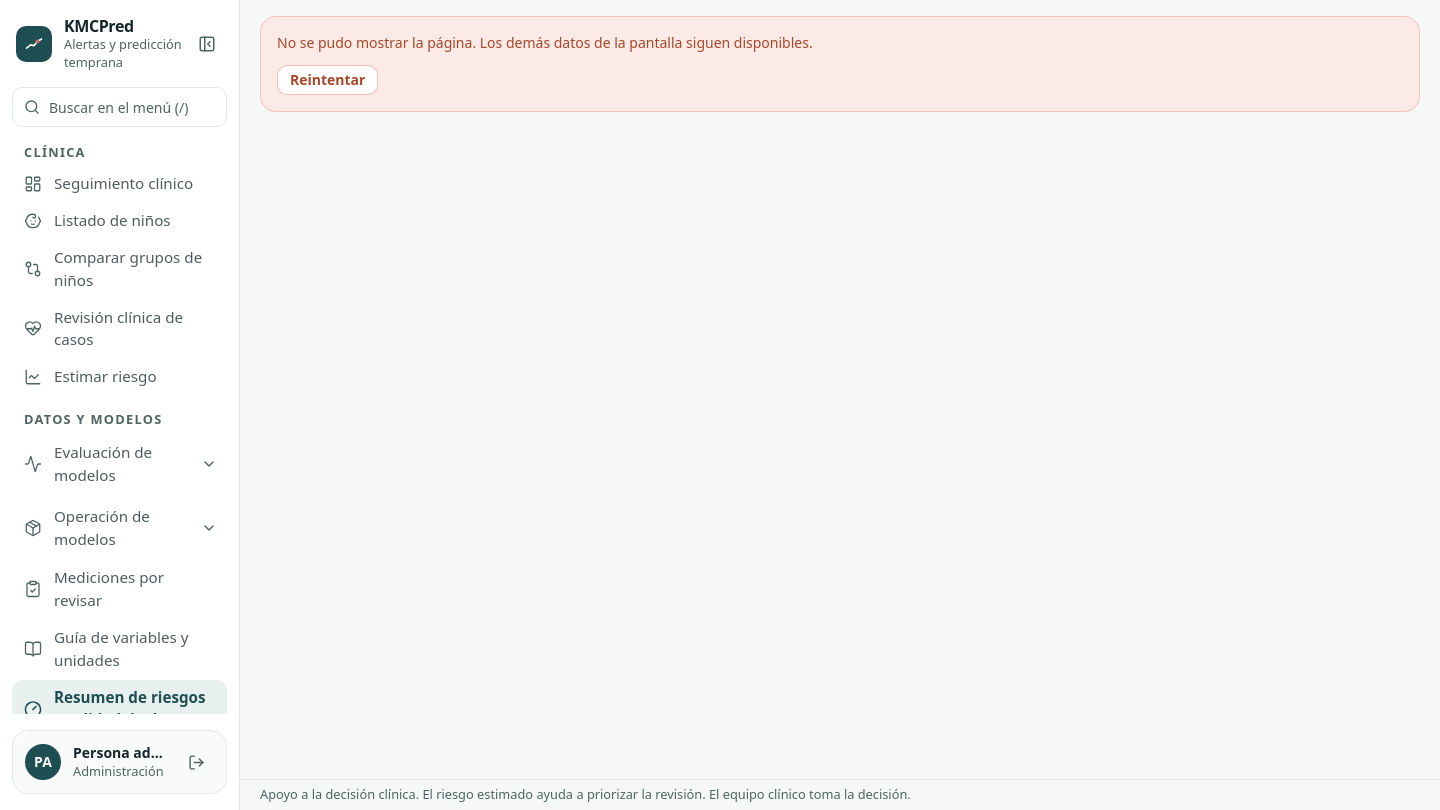
Buscar en el menú › si coincide el nombre del grupo, muestra todas sus opciones
The image size is (1440, 810).
In the search field with placeholder "Buscar en el menú (/)": (120, 107) x1=12 y1=87 x2=227 y2=127, type "configuracion"
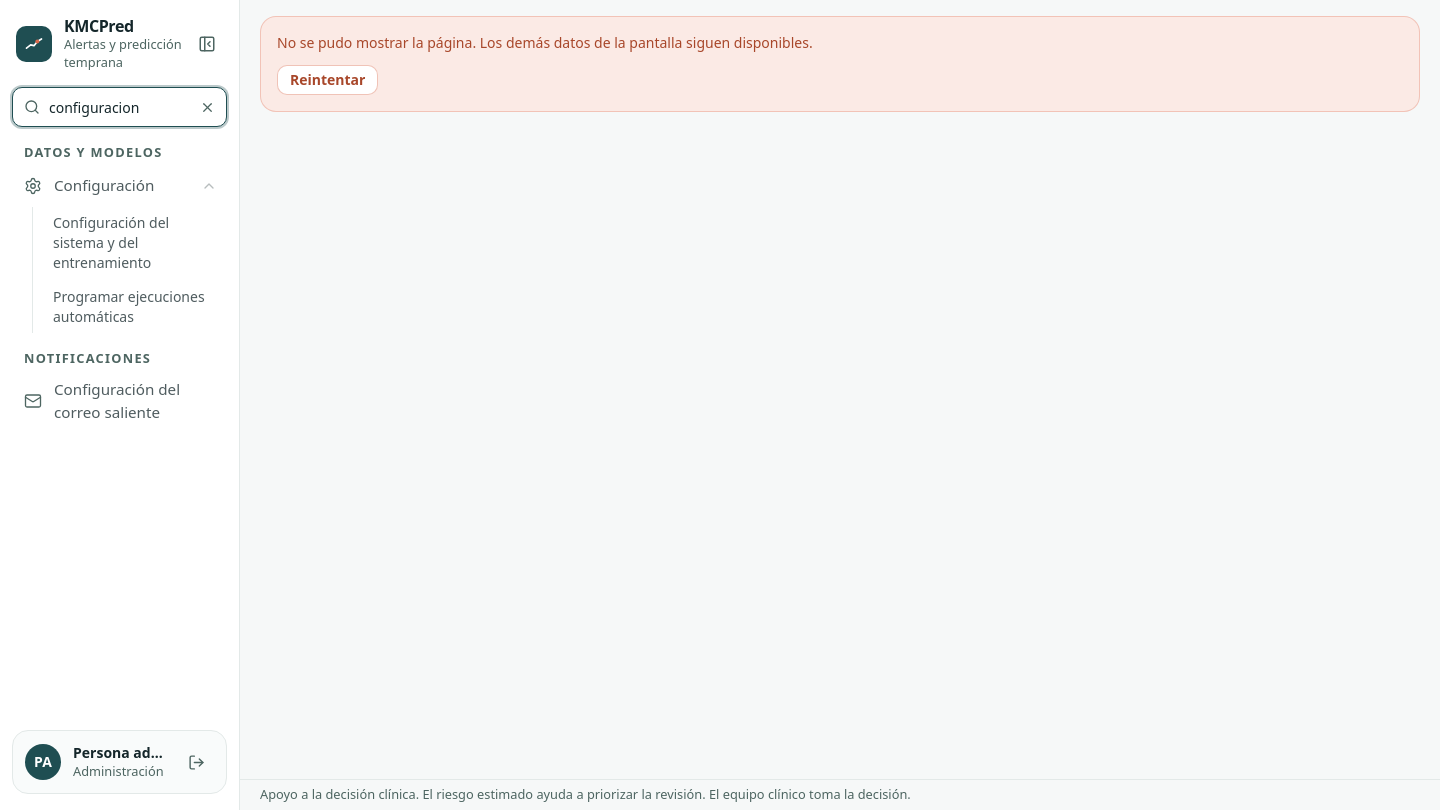
Expected: the link "Configuración del sistema y del entrenamiento" is shown, x1=53 y1=213 x2=169 y2=272
Expected: the link "Programar ejecuciones automáticas" is shown, x1=53 y1=287 x2=205 y2=326
